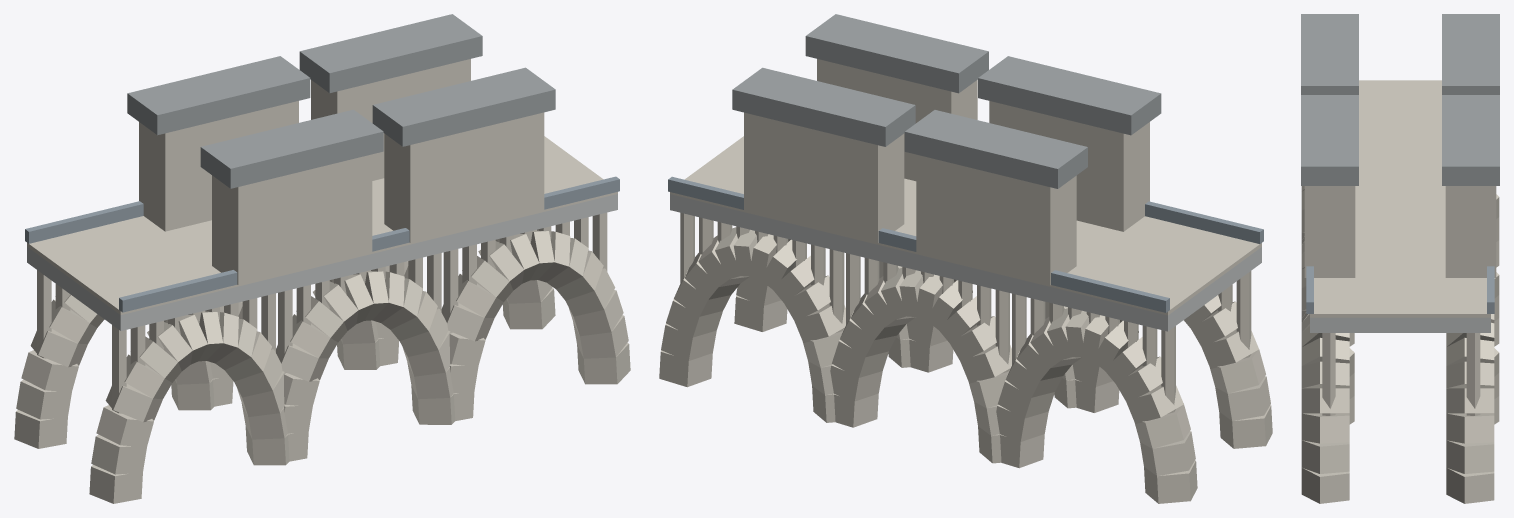
The model's file is source.glb.
The picture shows the model from 3 angles, left to right: view 1: azimuth 30°, elevation 25°; view 2: azimuth 150°, elevation 25°; view 3: azimuth 270°, elevation 25°; orthographic projection. The views are drawn at different scales.
Parts seen in each view (by area): view 1: worldgen; view 2: worldgen; view 3: worldgen.
Boxes of the visible parts, x1,y1,x2,y2 form: worldgen: [14, 14, 630, 503]; worldgen: [659, 14, 1272, 503]; worldgen: [1301, 14, 1499, 503].
Bounding box in the file's own units: 55.71 × 31.14 × 18.7.
